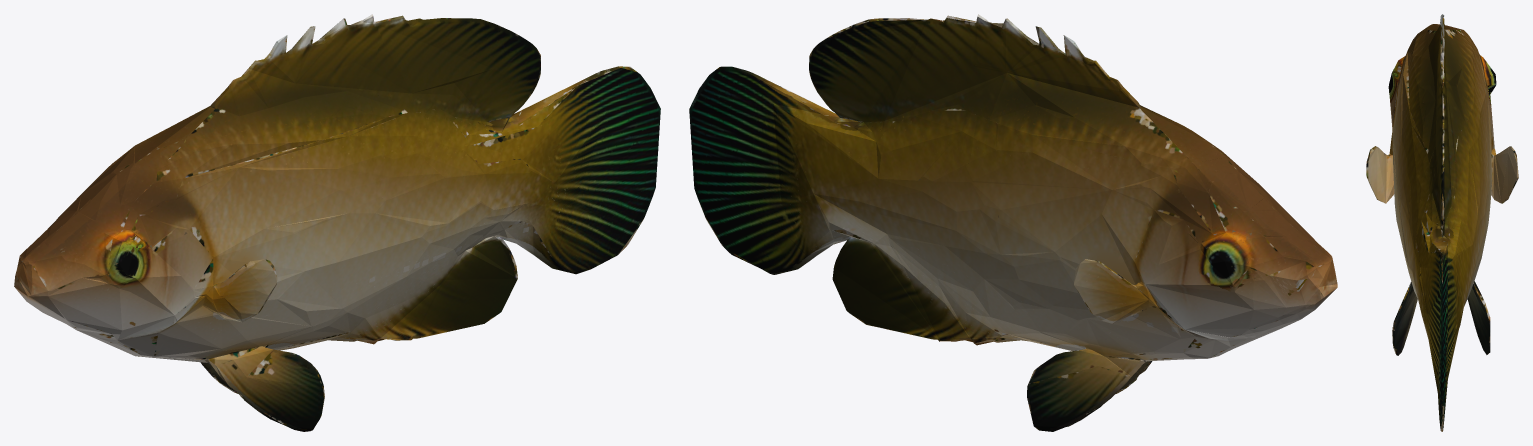
The model's file is fish_0076_smpl23_resized.glb.
3 views of the same model, side by side, from view 1: azimuth 30°, elevation 25°; view 2: azimuth 150°, elevation 25°; view 3: azimuth 270°, elevation 25° (orthographic). The views are drawn at different scales.
Parts seen in each view (by area): view 1: world; view 2: world; view 3: world.
Boxes of the visible parts, box(x1,y1,x2,y2) form: world: box(14, 14, 660, 431); world: box(689, 14, 1337, 431); world: box(1366, 14, 1518, 431).
Bounding box in the file's own units: 1.98 × 1.13 × 0.452.
1 material, 1 textured.
